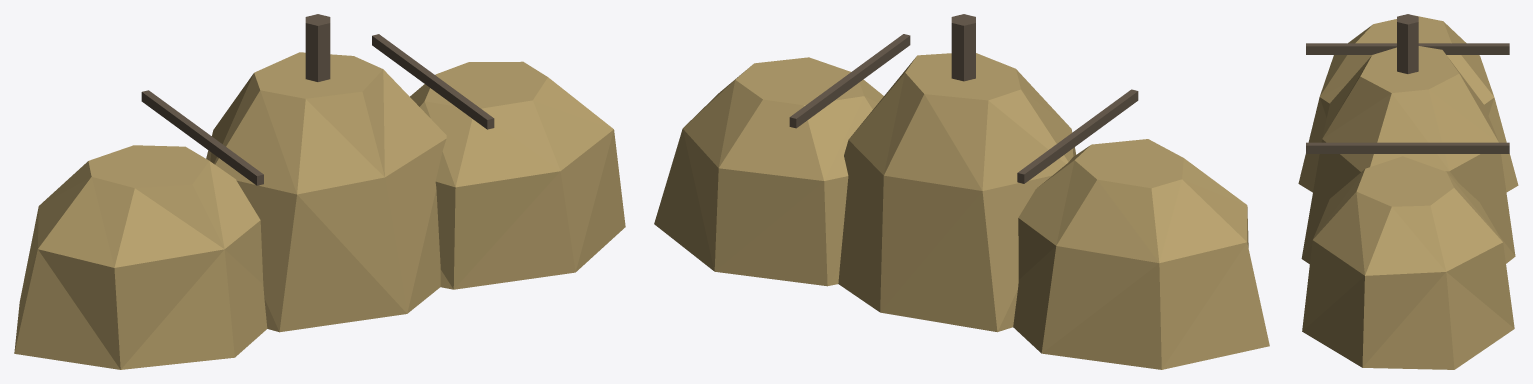
File: Decor_Haystack.fbx
3 views of the same model, side by side, from view 1: azimuth 30°, elevation 25°; view 2: azimuth 150°, elevation 25°; view 3: azimuth 270°, elevation 25° (orthographic). The views are drawn at different scales.
Parts seen in each view (by area): view 1: Decor_Haystack; view 2: Decor_Haystack; view 3: Decor_Haystack.
Boxes of the visible parts, left/top/right/bottom form: Decor_Haystack: left=14, top=14, right=625, bottom=369; Decor_Haystack: left=654, top=14, right=1269, bottom=369; Decor_Haystack: left=1298, top=14, right=1518, bottom=369.
Size of the model in its own units: 3.86 by 1.6 by 1.41.
